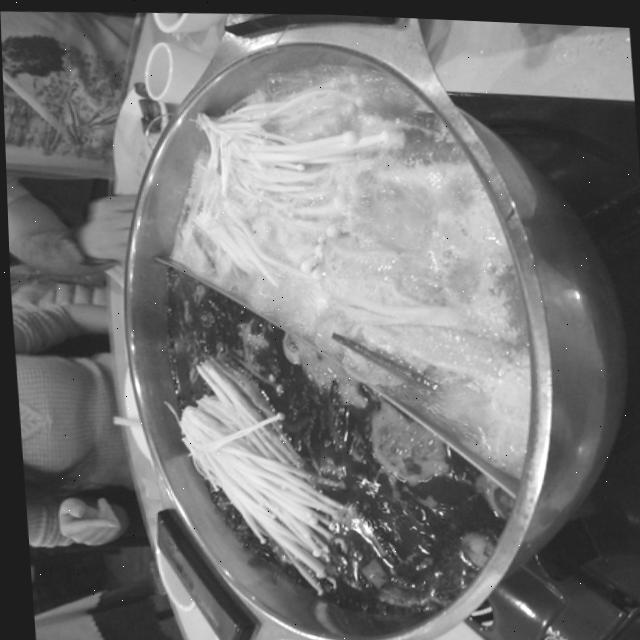汤锅炖物: (82, 24, 636, 640)
